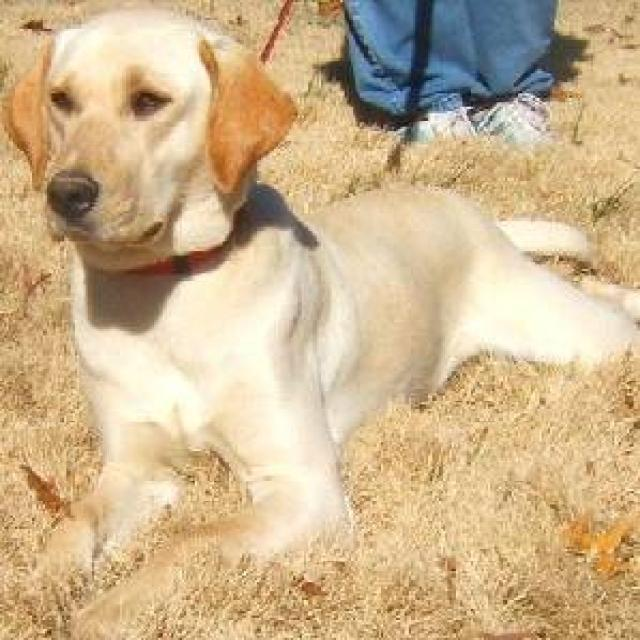dogs: (0, 10, 617, 634)
